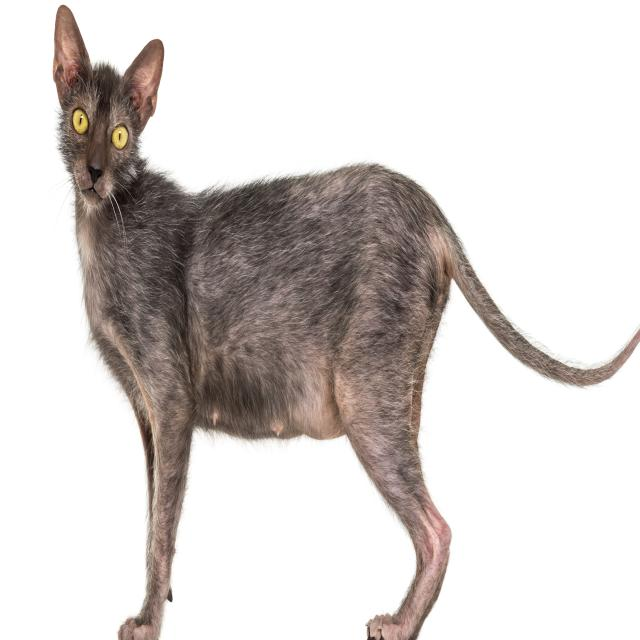Lykoi: (51, 0, 640, 640)
